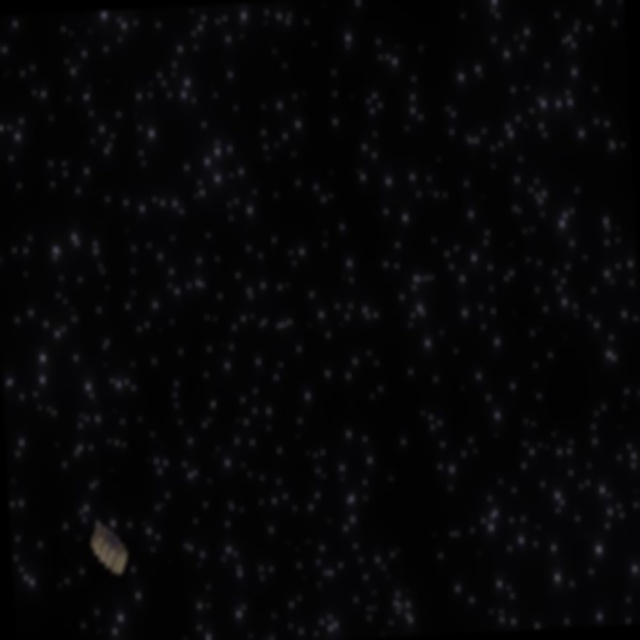large_debris: (90, 520, 130, 578)
